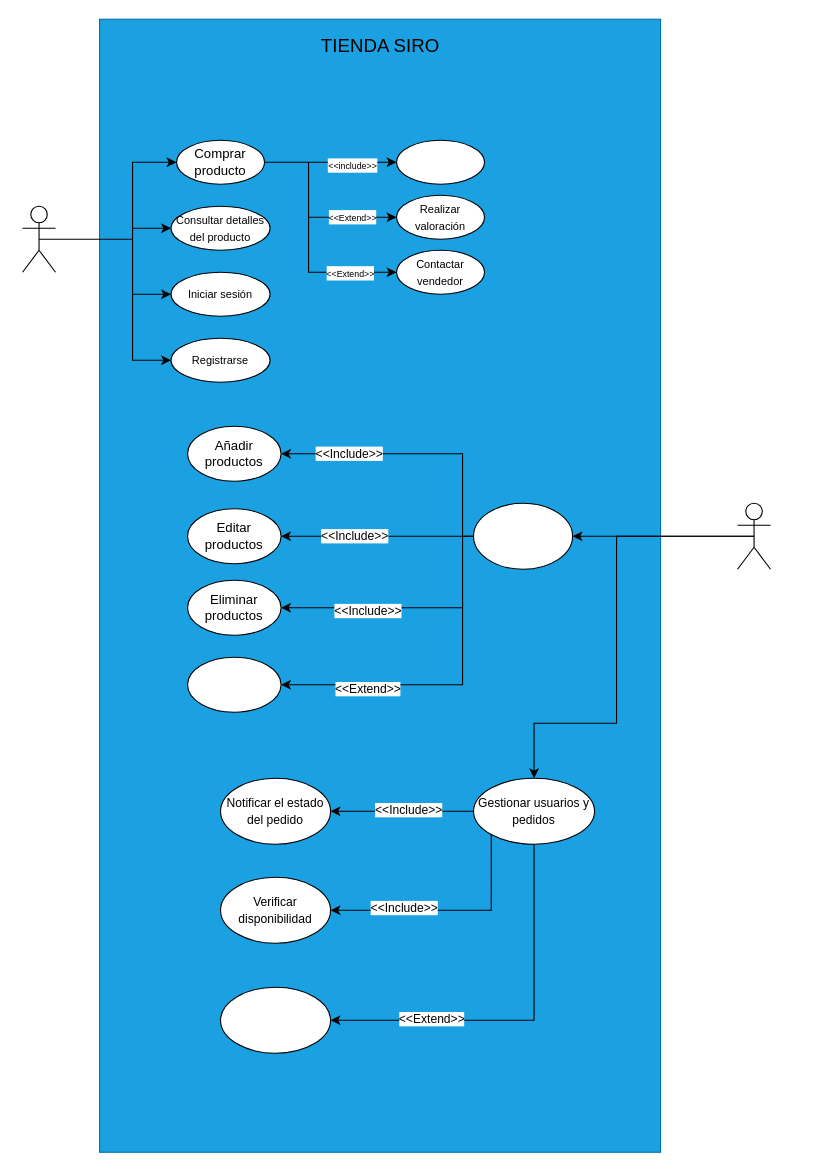
Image size: 814x1172. Some labels were removed from this diagram. The centre of each missing label's shape, as x and y in pixels:
"Administrador" goes at point 753,535.
"Autenticación" goes at point 275,1019.
"Cliente" goes at point 38,238.
"Dejar comentarios" goes at point 440,161.
"Generar reportes" goes at point 233,684.
"Gestionar inventario" goes at point 522,535.
